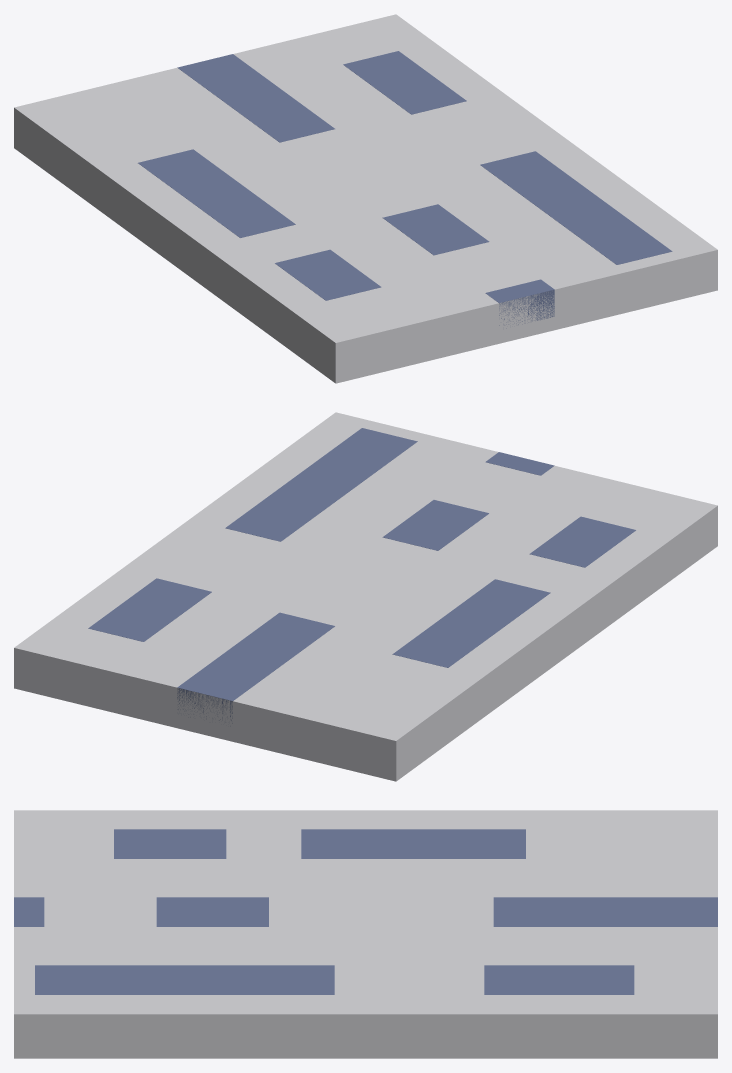
The model's file is measured-bluray-tracks.glb.
3 views of the same model, one above another, from view 1: azimuth 30°, elevation 25°; view 2: azimuth 150°, elevation 25°; view 3: azimuth 270°, elevation 25° (orthographic). The views are drawn at different scales.
Parts seen in each view (by area): view 1: reflective layer, pits; view 2: reflective layer, pits; view 3: reflective layer, pits.
Boxes of the visible parts, x1=… form: reflective layer: x1=14, y1=14, x2=717, y2=383; pits: x1=138, y1=51, x2=672, y2=328; reflective layer: x1=14, y1=412, x2=717, y2=781; pits: x1=88, y1=428, x2=635, y2=726; reflective layer: x1=14, y1=810, x2=717, y2=1058; pits: x1=14, y1=829, x2=717, y2=994.
Size of the model in its own units: 0.96 by 0.0978 by 1.4.
